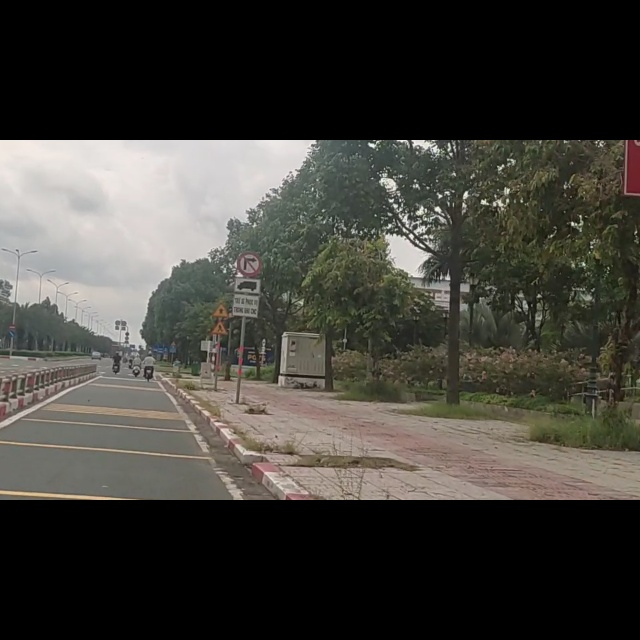bien_nguy_hiem: (232, 244, 260, 315), (235, 199, 261, 242), (211, 288, 229, 316), (211, 320, 228, 347)
